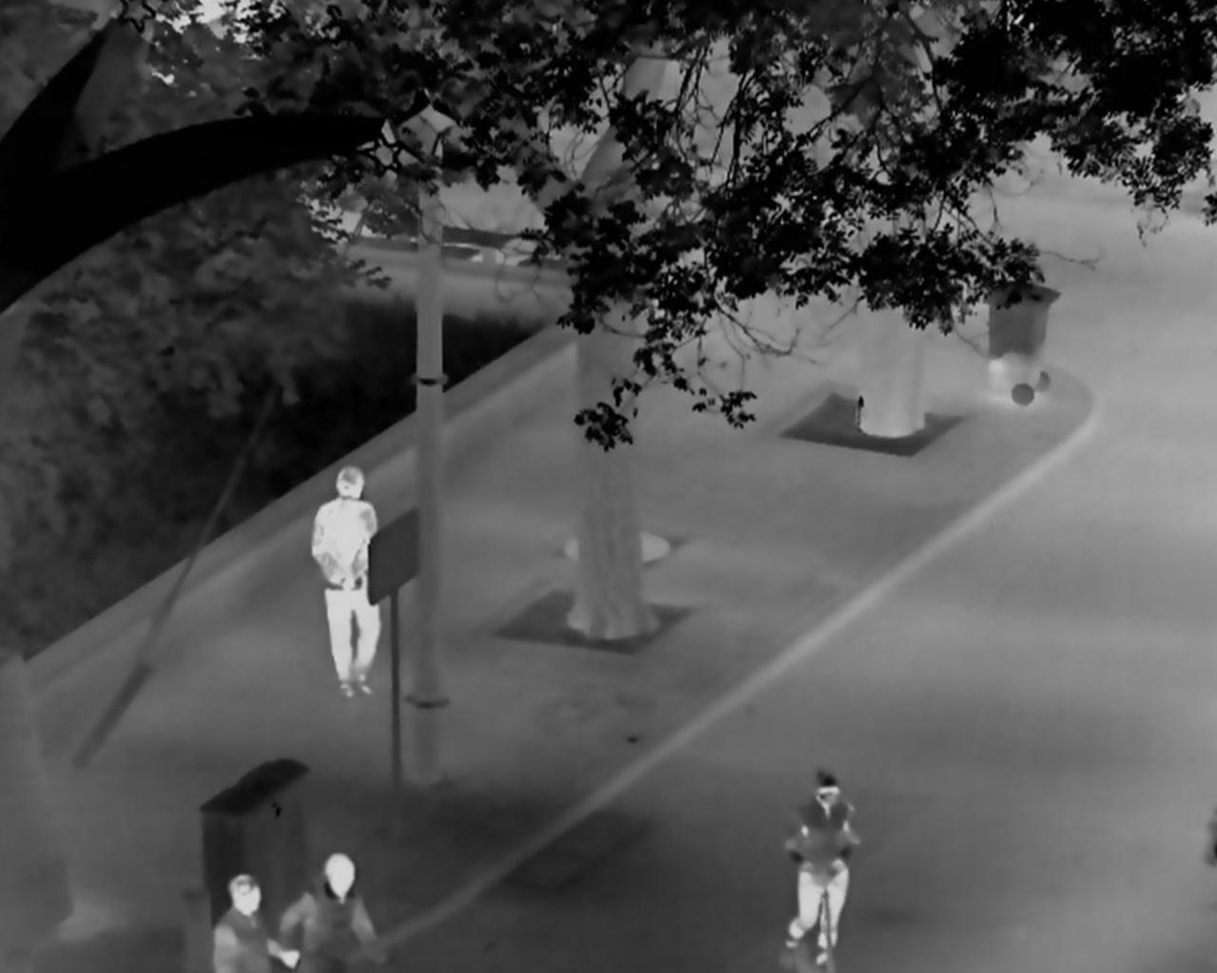person: (308, 465, 382, 697), (781, 768, 860, 964), (280, 852, 384, 973), (210, 872, 300, 973)
